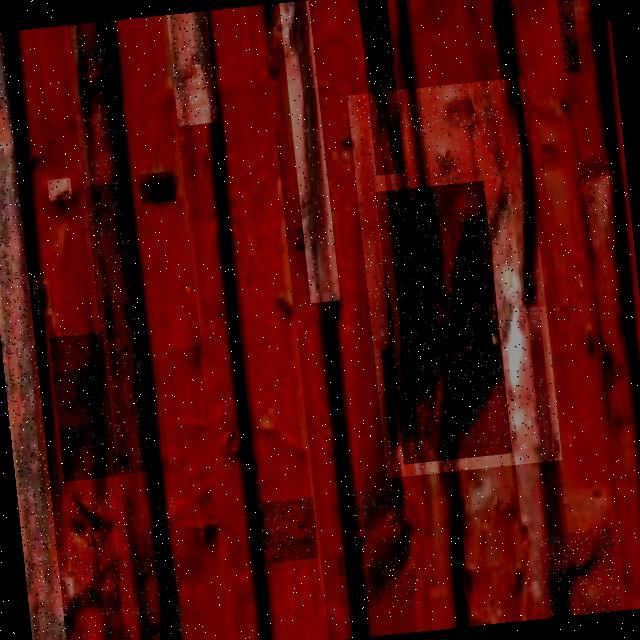Dent: (347, 77, 562, 478)
Minor-Dent: (349, 486, 421, 609), (539, 528, 621, 618), (257, 497, 319, 564), (579, 151, 618, 215)
Rust: (0, 31, 69, 640), (375, 181, 512, 465), (85, 182, 153, 475), (60, 490, 189, 640), (279, 0, 340, 302), (488, 0, 545, 308), (39, 488, 127, 640), (48, 332, 117, 482), (357, 0, 405, 175), (73, 21, 125, 182), (167, 10, 218, 126), (381, 348, 402, 449), (554, 0, 580, 73), (263, 3, 284, 62), (139, 171, 176, 204), (31, 277, 52, 316), (47, 178, 72, 201)
